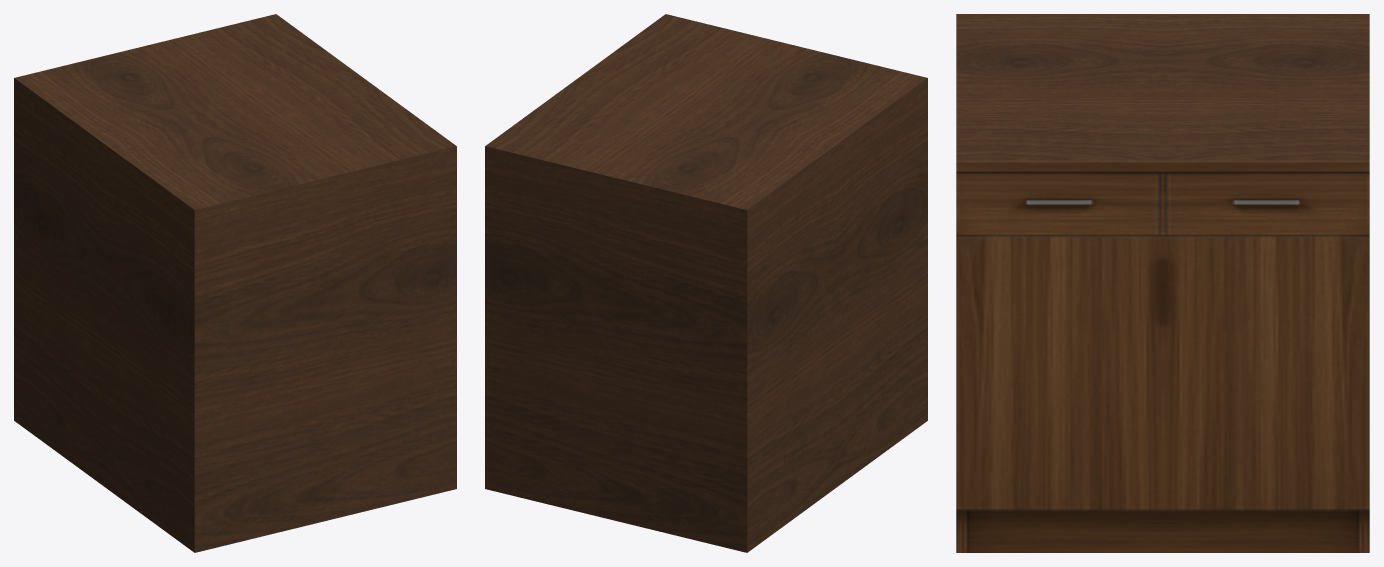
The model's file is cupboard.glb.
3 views of the same model, side by side, from view 1: azimuth 30°, elevation 25°; view 2: azimuth 150°, elevation 25°; view 3: azimuth 270°, elevation 25° (orthographic). The views are drawn at different scales.
Parts seen in each view (by area): view 1: cabinet_atlas_kitchen_0; view 2: cabinet_atlas_kitchen_0; view 3: cabinet_atlas_kitchen_0.
Boxes of the visible parts, x1,y1,x2,y2 form: cabinet_atlas_kitchen_0: (14,14,456,552); cabinet_atlas_kitchen_0: (485,14,927,552); cabinet_atlas_kitchen_0: (956,14,1369,552).
Bounding box in the file's own units: 0.76 × 0.95 × 0.9072.
1 material, 1 textured.
